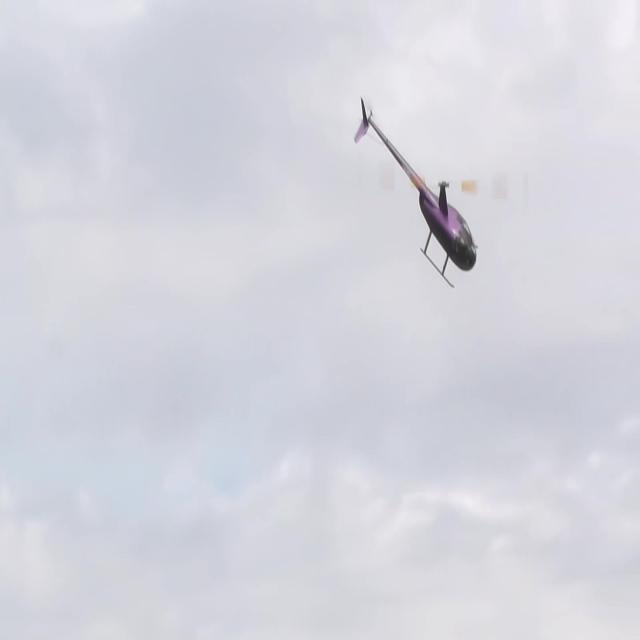CIV_HELO: (352, 95, 478, 289)
